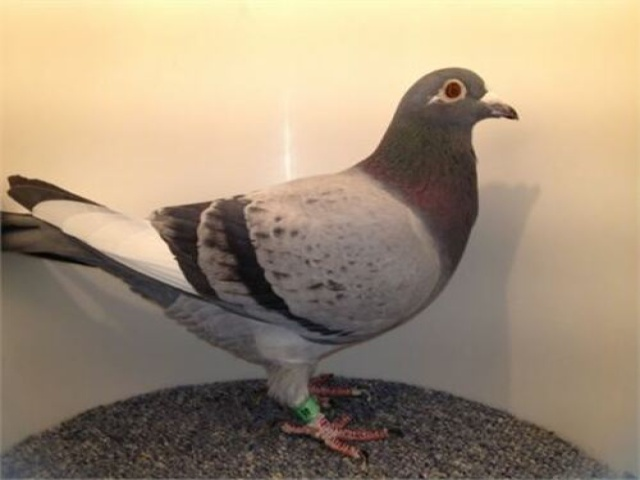Pigeon: (1, 63, 527, 457)
